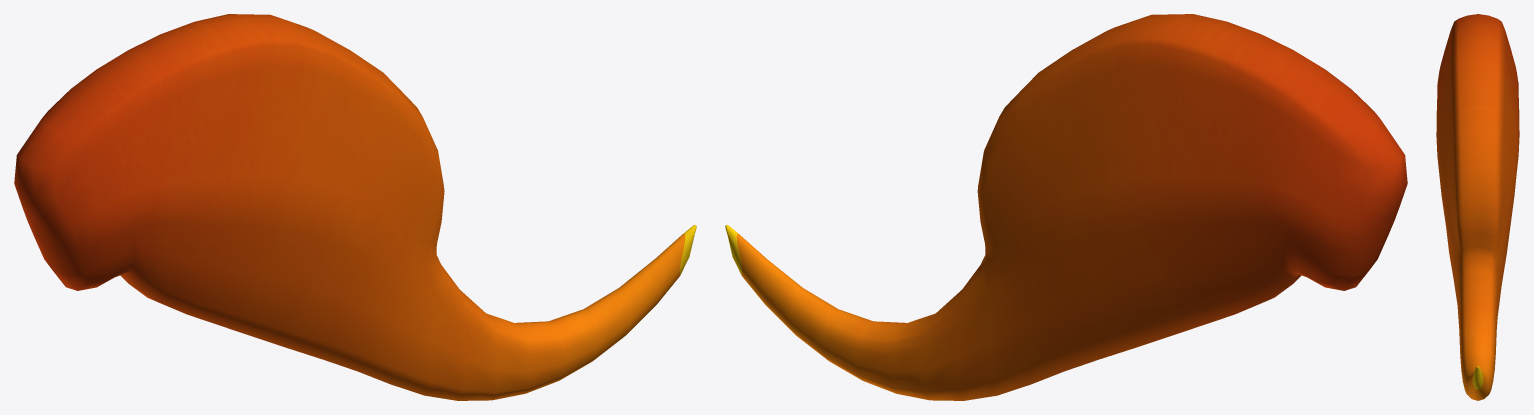
File: Ingredient_Sting.fbx
3 views of the same model, side by side, from view 1: azimuth 30°, elevation 25°; view 2: azimuth 150°, elevation 25°; view 3: azimuth 270°, elevation 25° (orthographic). The views are drawn at different scales.
Parts seen in each view (by area): view 1: Ingredient_Sting; view 2: Ingredient_Sting; view 3: Ingredient_Sting.
Boxes of the visible parts, x1,y1,x2,y2 form: Ingredient_Sting: [14, 14, 696, 400]; Ingredient_Sting: [725, 14, 1407, 400]; Ingredient_Sting: [1436, 14, 1519, 400].
Size of the model in its own units: 136 by 84.81 by 23.72.
Materials: 1 (1 with a texture image).
